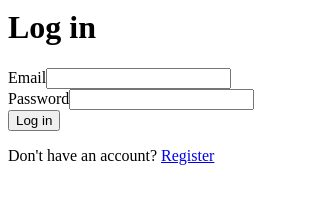
Test: LoginPage › shows the server's message when the credentials are wrong
Type "richard@example.com" into the field labelled "Email" at (139, 78), box 46,68 -> 231,89
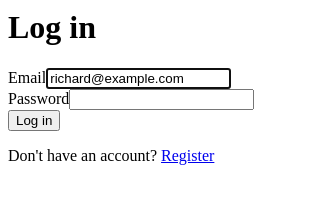
Type "the art of war is weak" into the password field labelled "Password" at (162, 99), box 69,89 -> 254,110
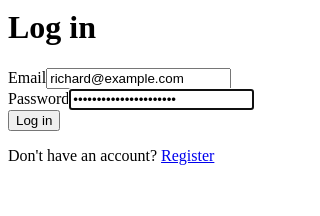
Click the button "Log in" at (34, 120), box 8,110 -> 60,131
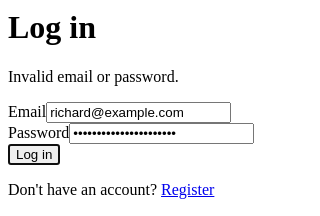
expect the message reads "Invalid email or password.": met, box 8,68 -> 179,85
